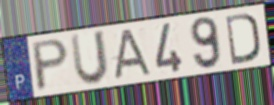4: (154, 20, 185, 75)
9: (190, 15, 223, 71)
A: (110, 27, 154, 82)
D: (223, 11, 261, 67)
P: (31, 36, 71, 94)
U: (68, 28, 110, 87)
